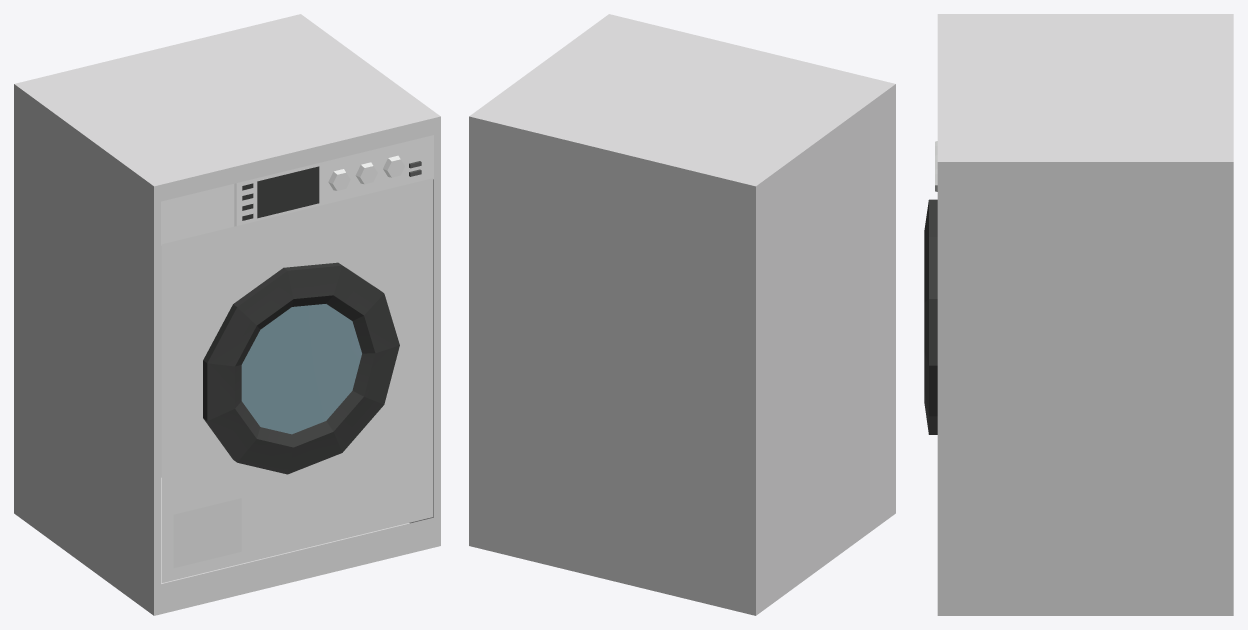
The model's file is SM_washing_machine_001.FBX.
3 renders of one model, left to right at view 1: azimuth 30°, elevation 25°; view 2: azimuth 150°, elevation 25°; view 3: azimuth 270°, elevation 25°, orthographic. The views are drawn at different scales.
Visible parts, largest first — view 1: SM_washing_machine_001; view 2: SM_washing_machine_001; view 3: SM_washing_machine_001.
Boxes of the visible parts, x1=… form: SM_washing_machine_001: x1=14, y1=14, x2=440, y2=615; SM_washing_machine_001: x1=469, y1=14, x2=895, y2=615; SM_washing_machine_001: x1=924, y1=14, x2=1233, y2=615.
Bounding box in the file's own units: 59.85 × 52.89 × 85.67.
